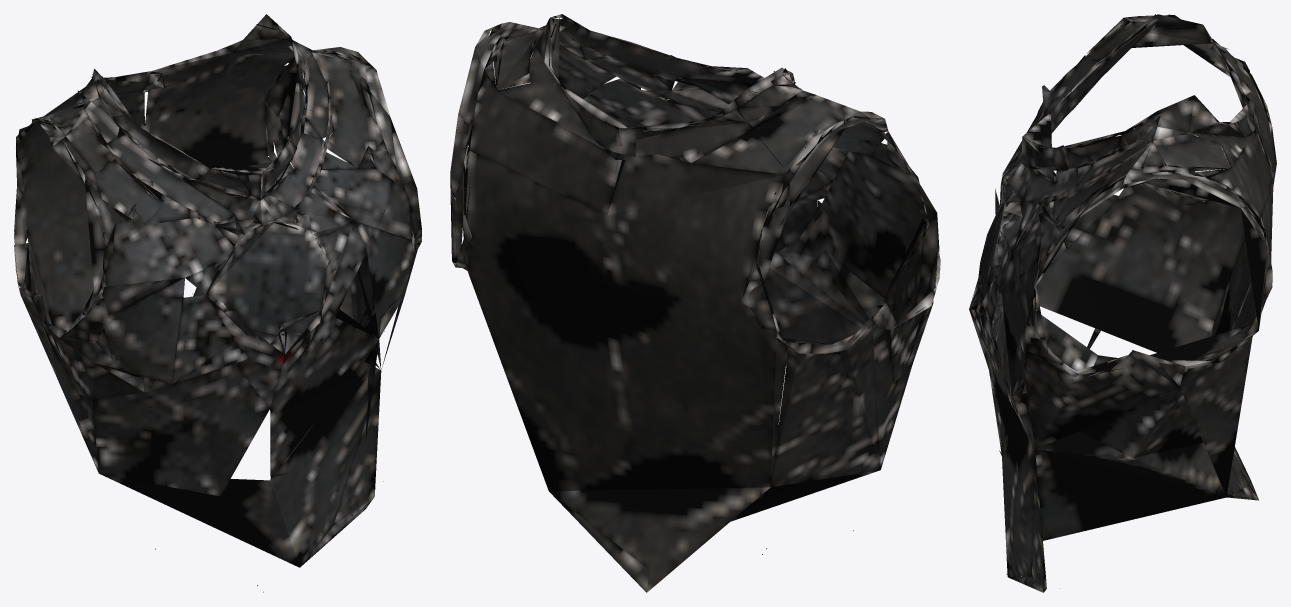
Rendered from vampire_chestplate_v3_lc_LOD3.glb.
3 views of the same model, side by side, from view 1: azimuth 30°, elevation 25°; view 2: azimuth 150°, elevation 25°; view 3: azimuth 270°, elevation 25° (orthographic). The views are drawn at different scales.
Visible parts, largest first — view 1: vampire_chestplate_v3_lc_LOD3; view 2: vampire_chestplate_v3_lc_LOD3; view 3: vampire_chestplate_v3_lc_LOD3.
Part boxes in pixels (x1,y1,x2,y2): vampire_chestplate_v3_lc_LOD3: (14,14,421,592); vampire_chestplate_v3_lc_LOD3: (450,14,940,592); vampire_chestplate_v3_lc_LOD3: (969,14,1276,592).
Bounding box in the file's own units: 0.7216 × 0.9521 × 0.5036.
Materials: 1 (1 with a texture image).
